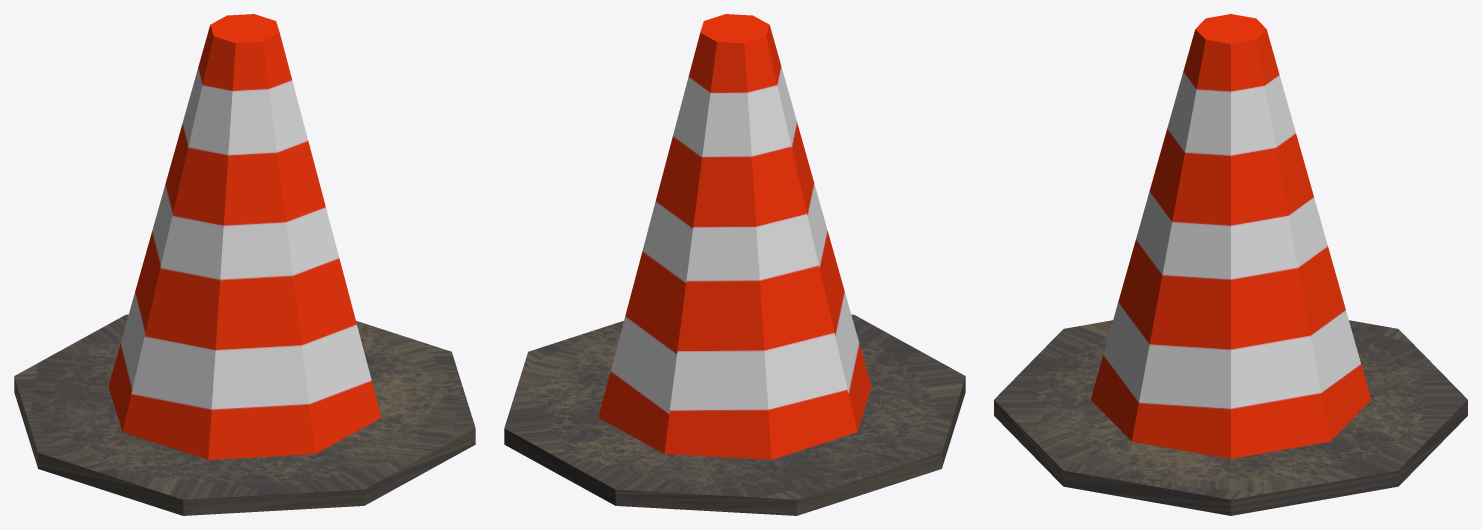
The picture shows the model from 3 angles, left to right: view 1: azimuth 30°, elevation 25°; view 2: azimuth 150°, elevation 25°; view 3: azimuth 270°, elevation 25°; orthographic projection.
Visible parts, largest first — view 1: Cone; view 2: Cone; view 3: Cone.
Part boxes in pixels (x1,y1,x2,y2): Cone: (14, 14, 475, 515); Cone: (504, 14, 965, 515); Cone: (994, 14, 1467, 515).
Size of the model in its own units: 77.67 by 69.93 by 77.67.
